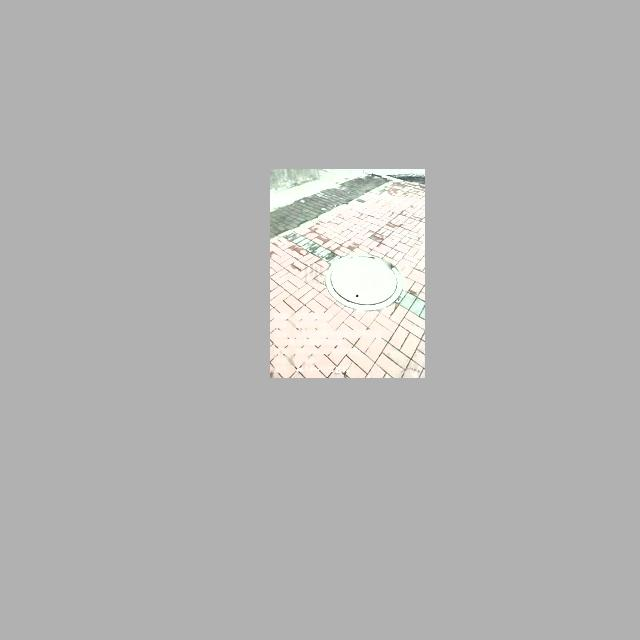circle: (323, 253, 403, 312)
